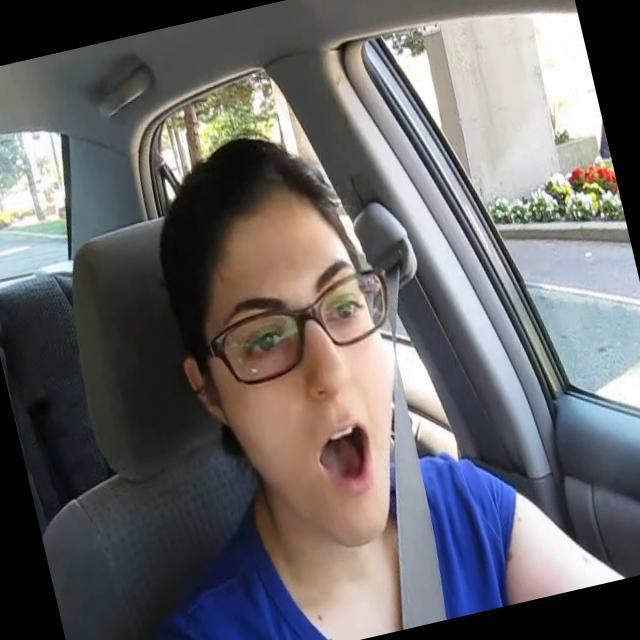open-mouth: (318, 421, 371, 492)
